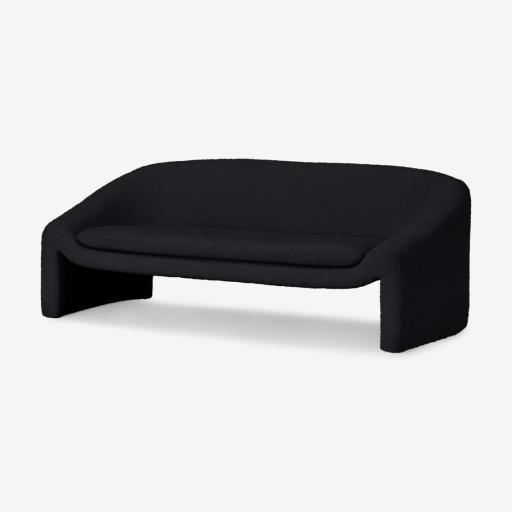back_cushion: (78, 159, 448, 239)
base: (61, 245, 378, 289)
left_arm: (365, 184, 470, 352)
one-seater: (42, 159, 469, 352)
right_arm: (42, 169, 154, 248)
seat_cushion: (76, 224, 381, 268)
